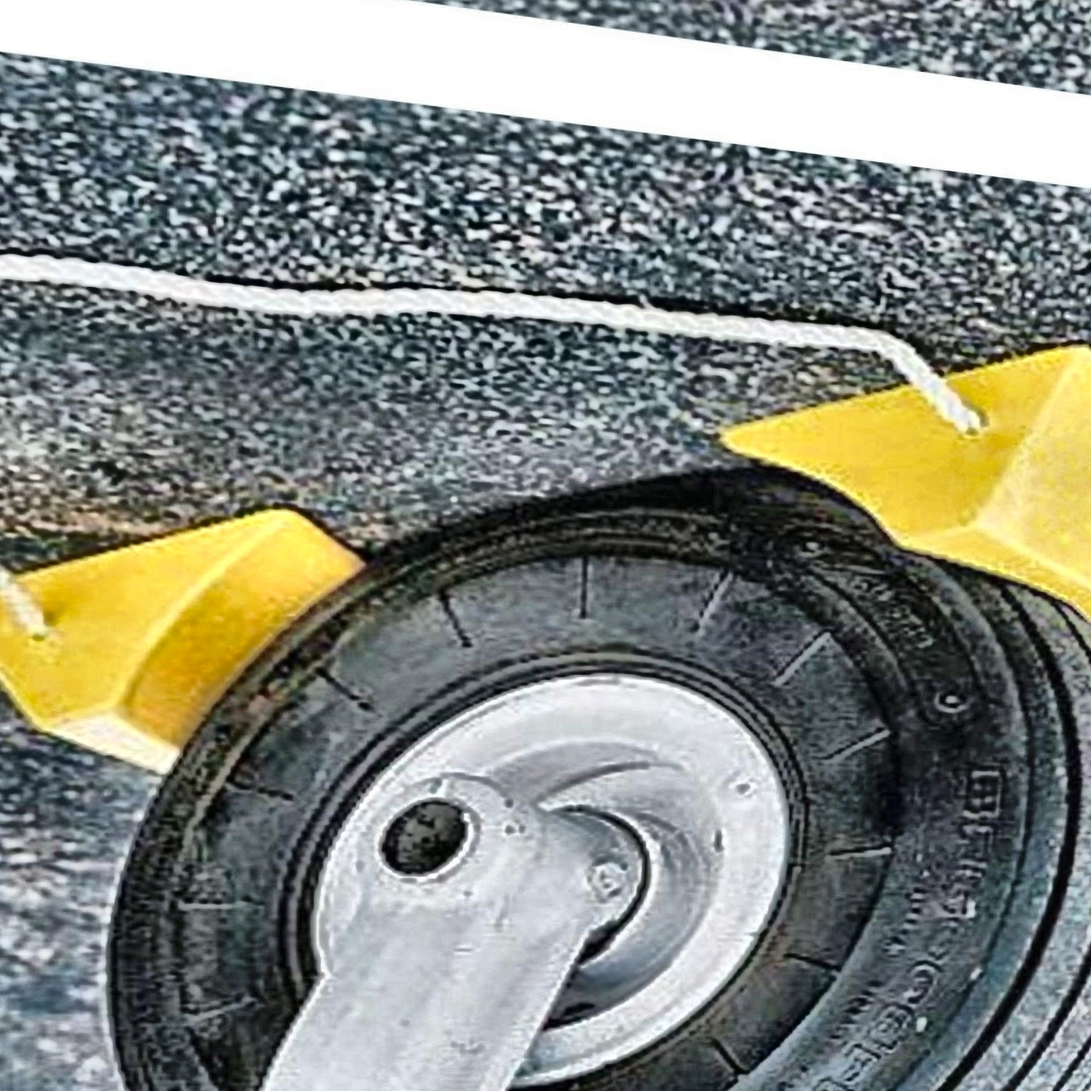chock: (0, 478, 508, 828), (704, 308, 1091, 709)
wheel: (0, 405, 1091, 1091)
